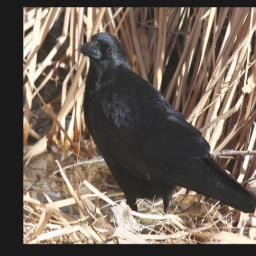Crow: (76, 31, 256, 215)
